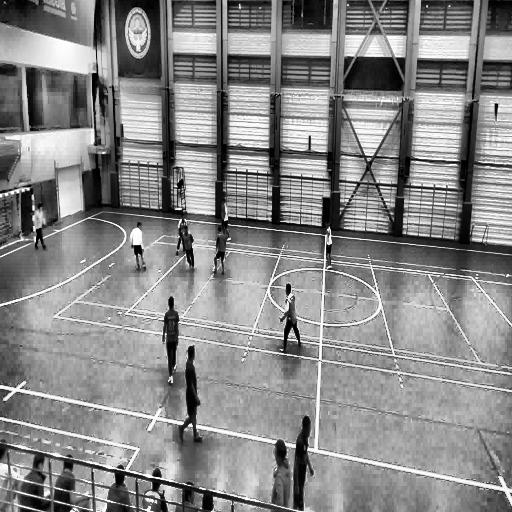ball: (212, 264, 216, 277)
player: (177, 345, 204, 445), (292, 415, 314, 512), (162, 295, 180, 383), (280, 282, 302, 352), (130, 221, 147, 273), (179, 220, 196, 272), (213, 224, 228, 277), (173, 212, 188, 258), (34, 202, 48, 249), (219, 195, 231, 243), (323, 218, 333, 269)
